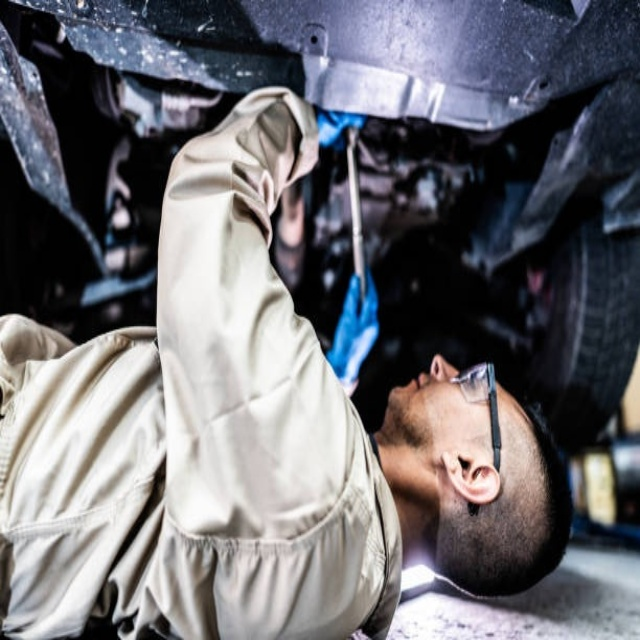Gafas: (450, 362, 502, 507)
Sin_mascara: (390, 365, 432, 402)
